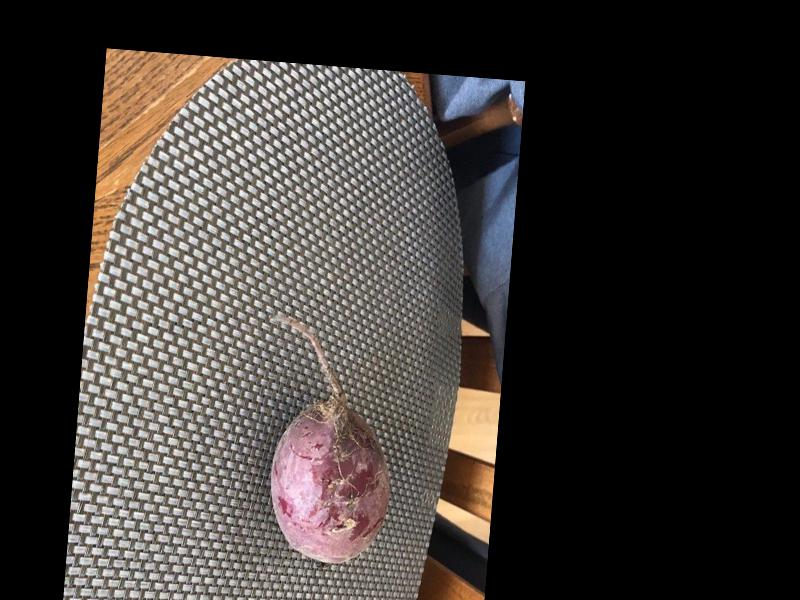Beet: (251, 313, 403, 564)
